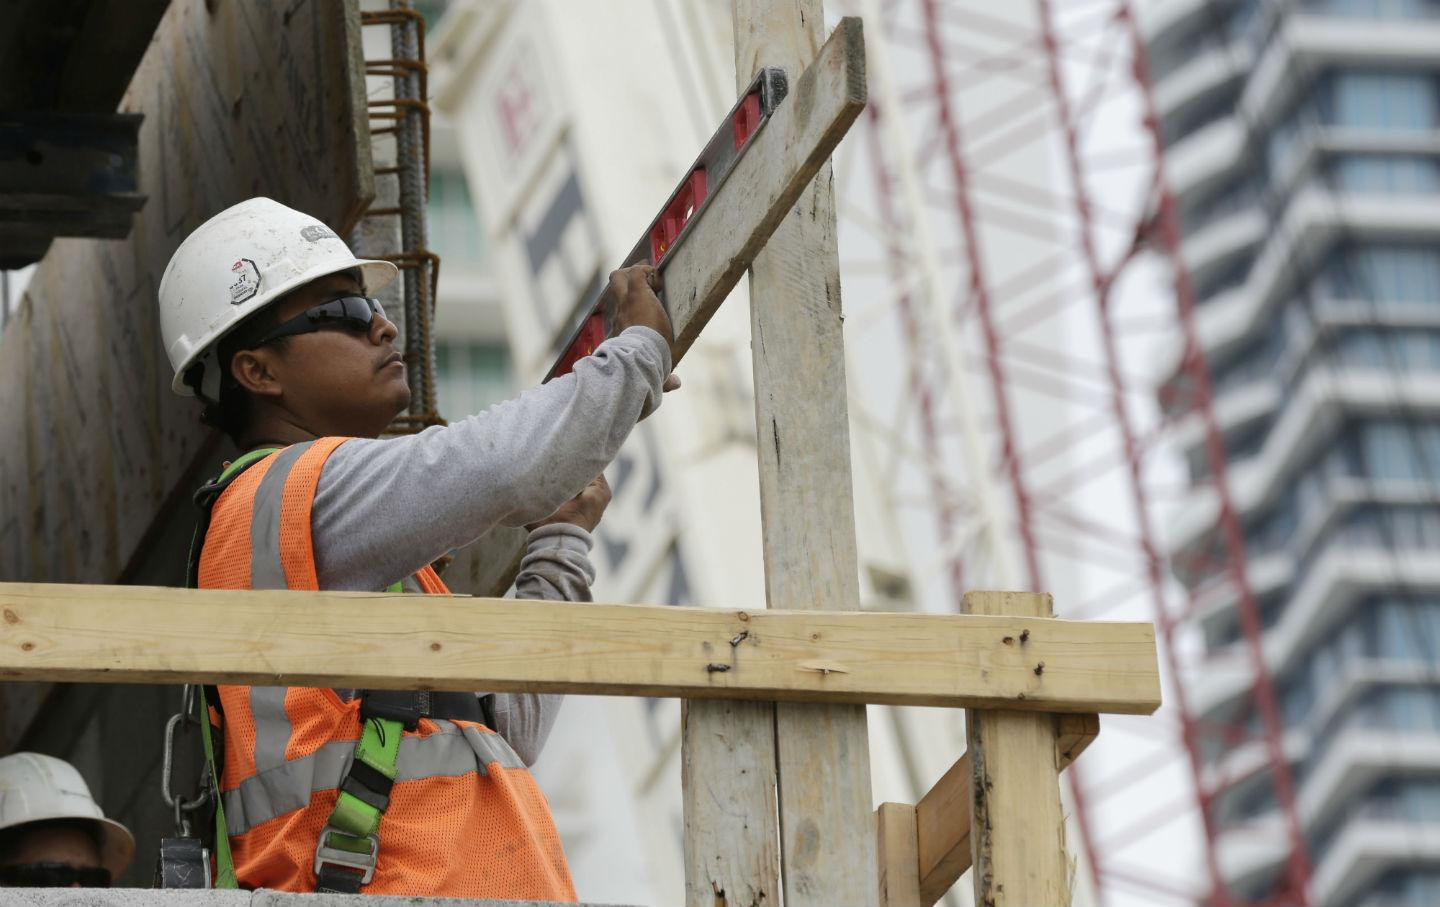helmet: (158, 197, 399, 387), (1, 751, 136, 880)
